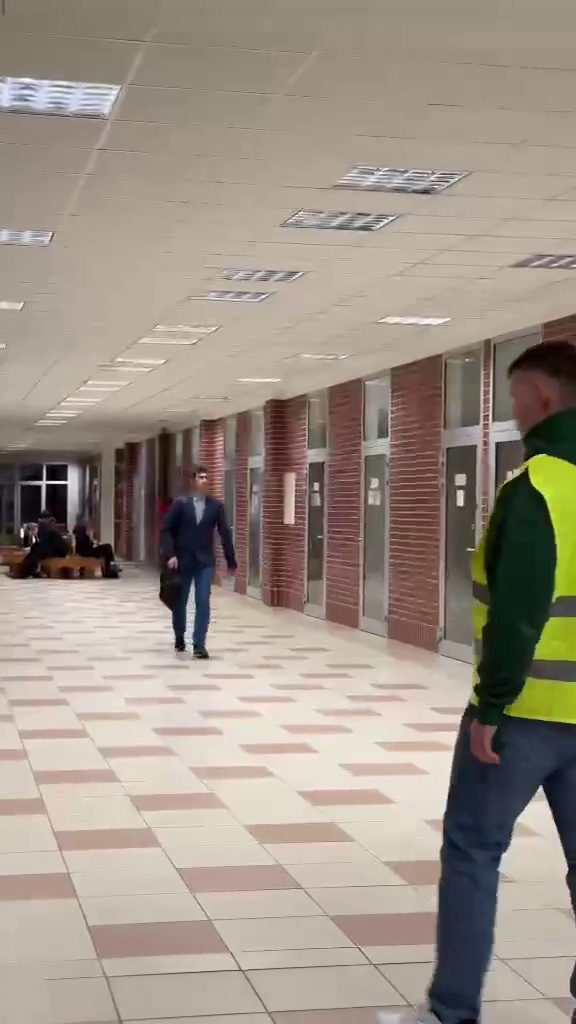no vest: (153, 462, 243, 667)
vest: (450, 335, 576, 1024)
